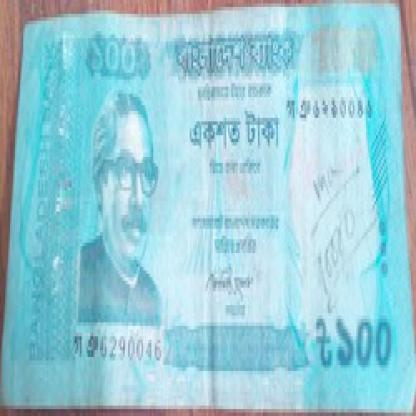one hundred taka: (331, 305, 396, 385), (306, 20, 381, 86), (80, 28, 145, 83)
